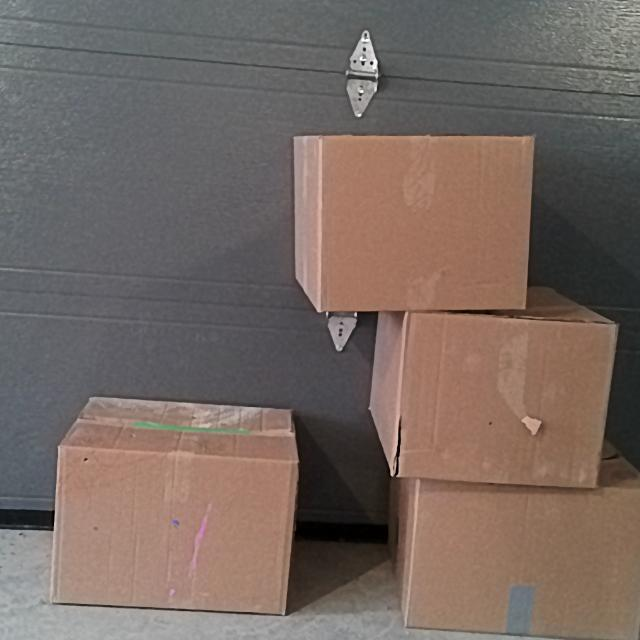box: (58, 445, 293, 608), (317, 135, 532, 310), (397, 311, 602, 484), (407, 483, 640, 630)
